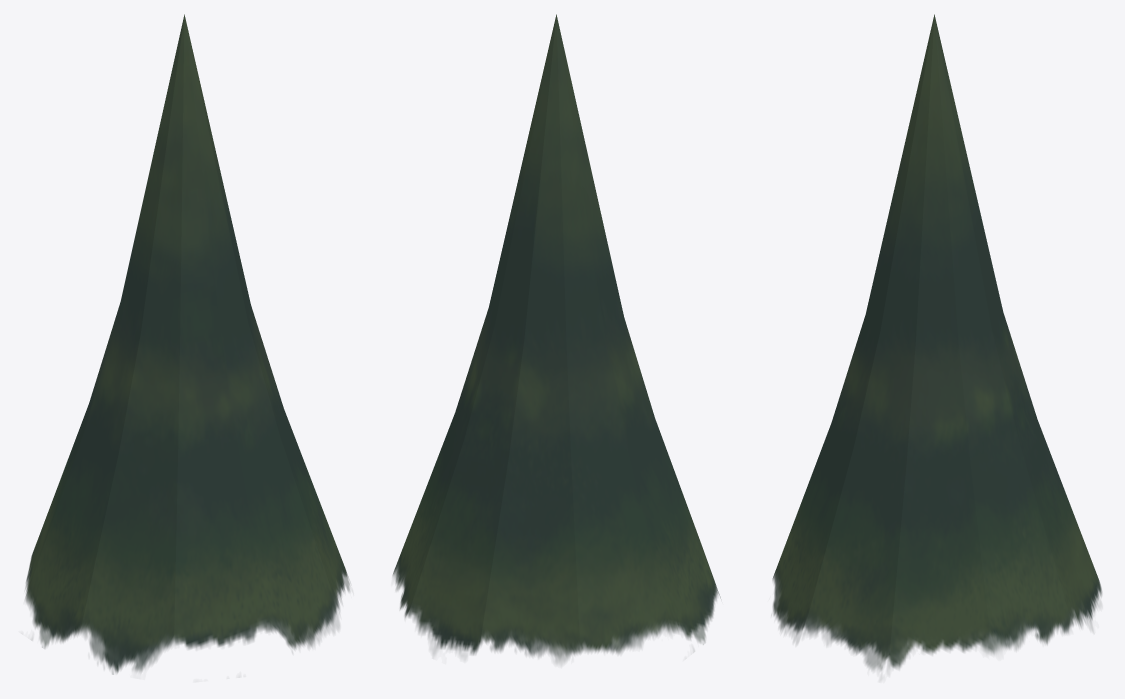
Rendered from polysurface119_lambert6_0.004_lev2.glb.
The picture shows the model from 3 angles, left to right: view 1: azimuth 30°, elevation 25°; view 2: azimuth 150°, elevation 25°; view 3: azimuth 270°, elevation 25°; orthographic projection.
Visible parts, largest first — view 1: polysurface119_lambert6_0.004_lev2; view 2: polysurface119_lambert6_0.004_lev2; view 3: polysurface119_lambert6_0.004_lev2.
Part boxes in pixels (x1=…): polysurface119_lambert6_0.004_lev2: x1=25, y1=14, x2=349, y2=674; polysurface119_lambert6_0.004_lev2: x1=392, y1=14, x2=720, y2=663; polysurface119_lambert6_0.004_lev2: x1=772, y1=14, x2=1101, y2=670.
Bounding box in the file's own units: 3.81 × 7.42 × 3.95.
Materials: 1 (1 with a texture image).
